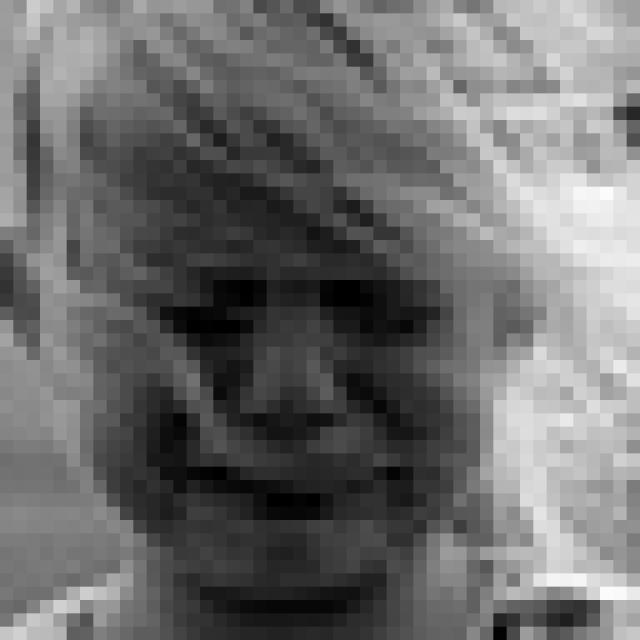sad: (116, 255, 465, 548)
